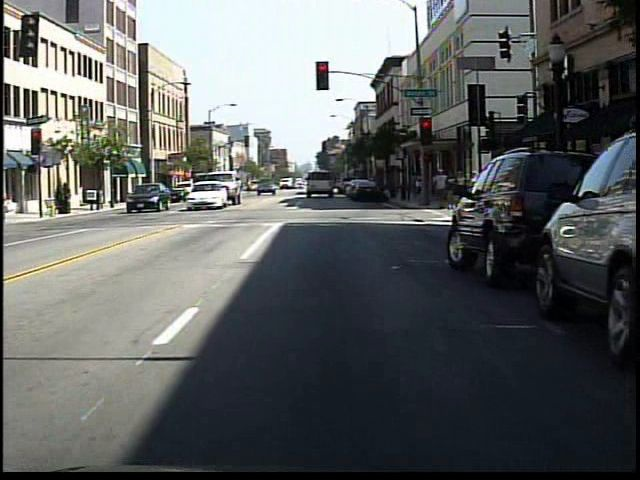person: (432, 166, 451, 204), (445, 168, 459, 209), (240, 173, 257, 202)
